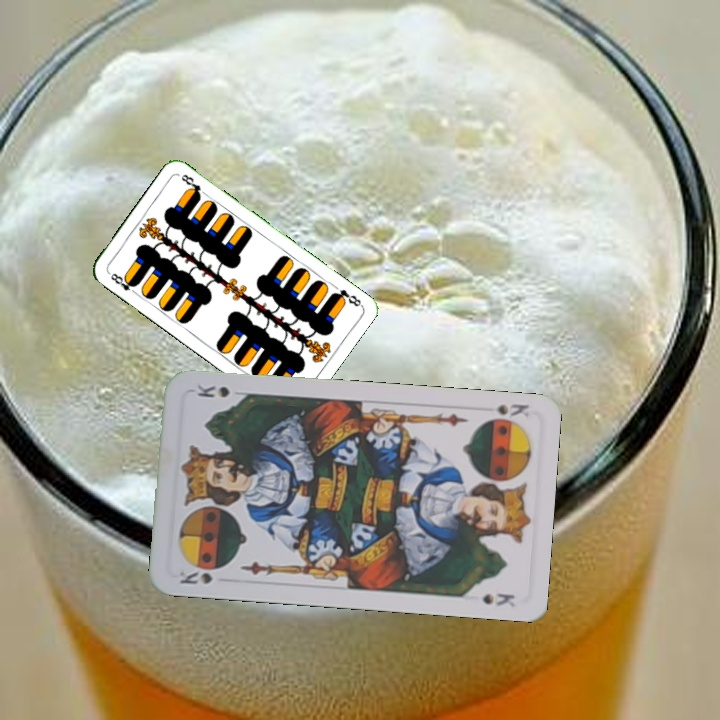E8: (105, 268, 140, 297), (328, 285, 364, 309)
SK: (175, 567, 215, 587), (493, 400, 532, 420)
